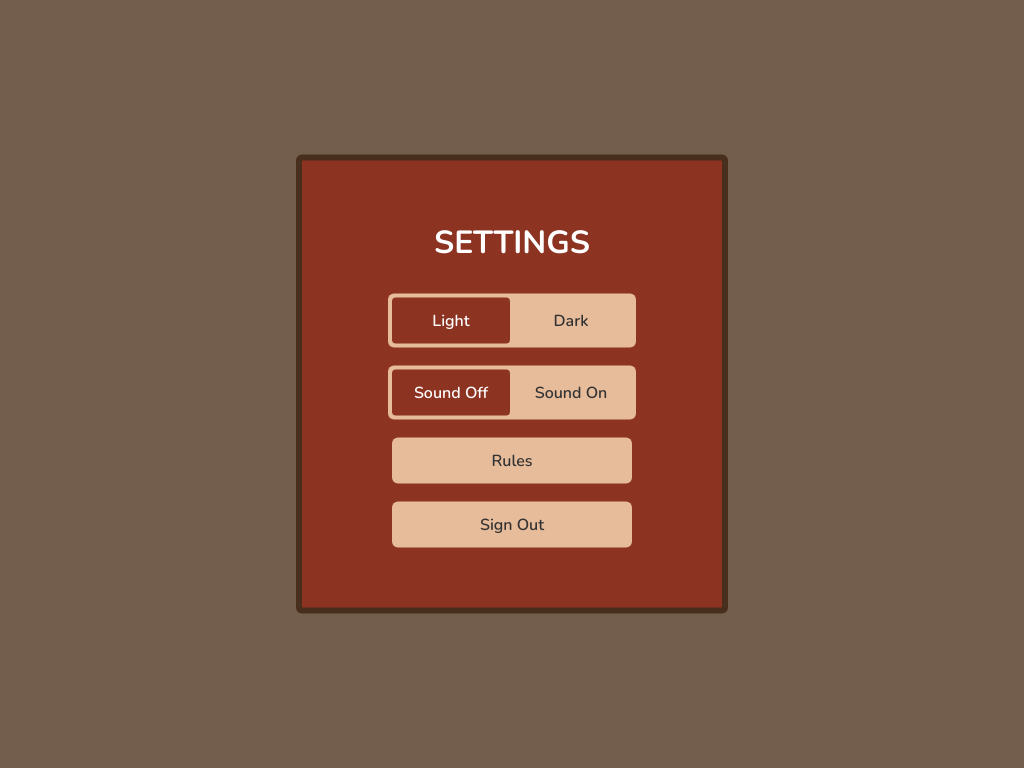
it: Settings.rules › opens rules screen
Click the button "Rules": x=512, y=460 [392,438,632,484]
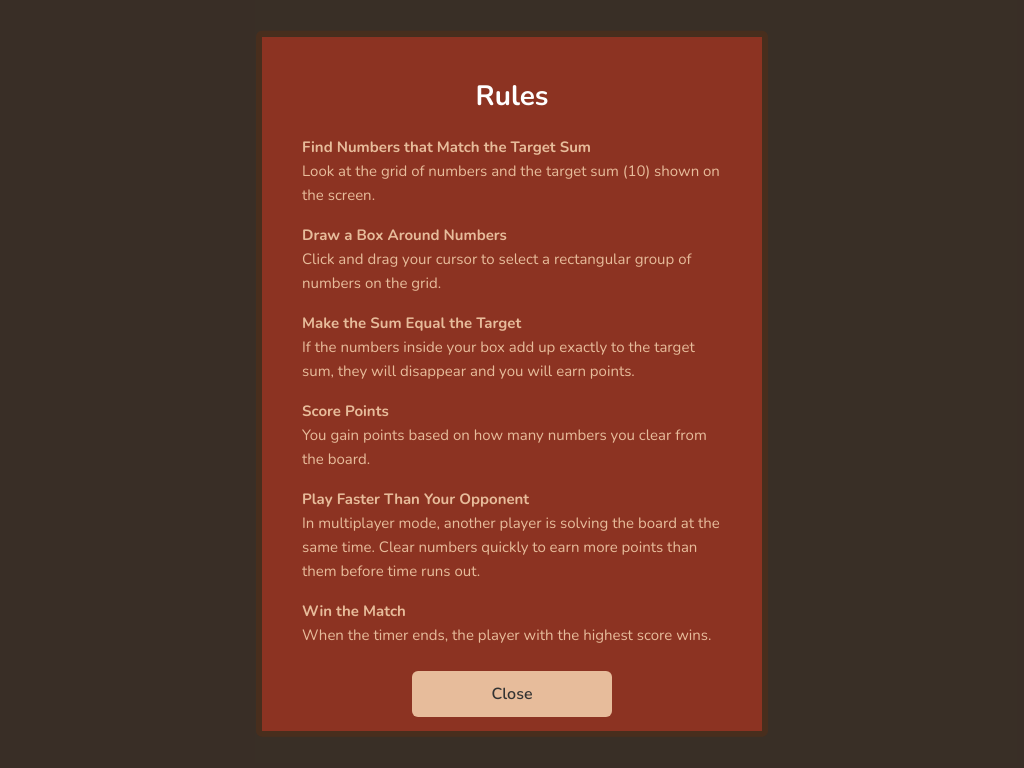
Now the text "Find Numbers that Match the Target Sum" is shown, box [302,137,591,157]
